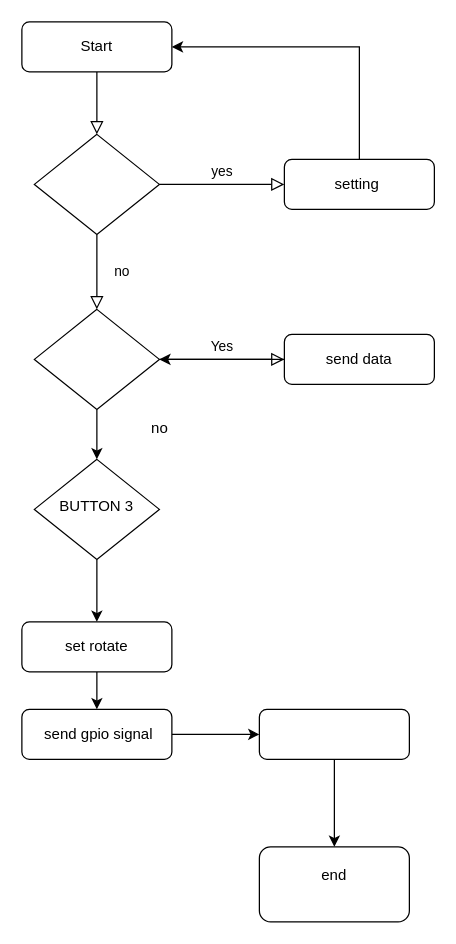
Some shapes in this 456 by 944 pixel diagram are drawn without their labels. The centre of each missing label's shape, as x and y in pixels:
BUTTON 1: [96,183]
BUTTON 2: [96,358]
run motor: [333,733]
